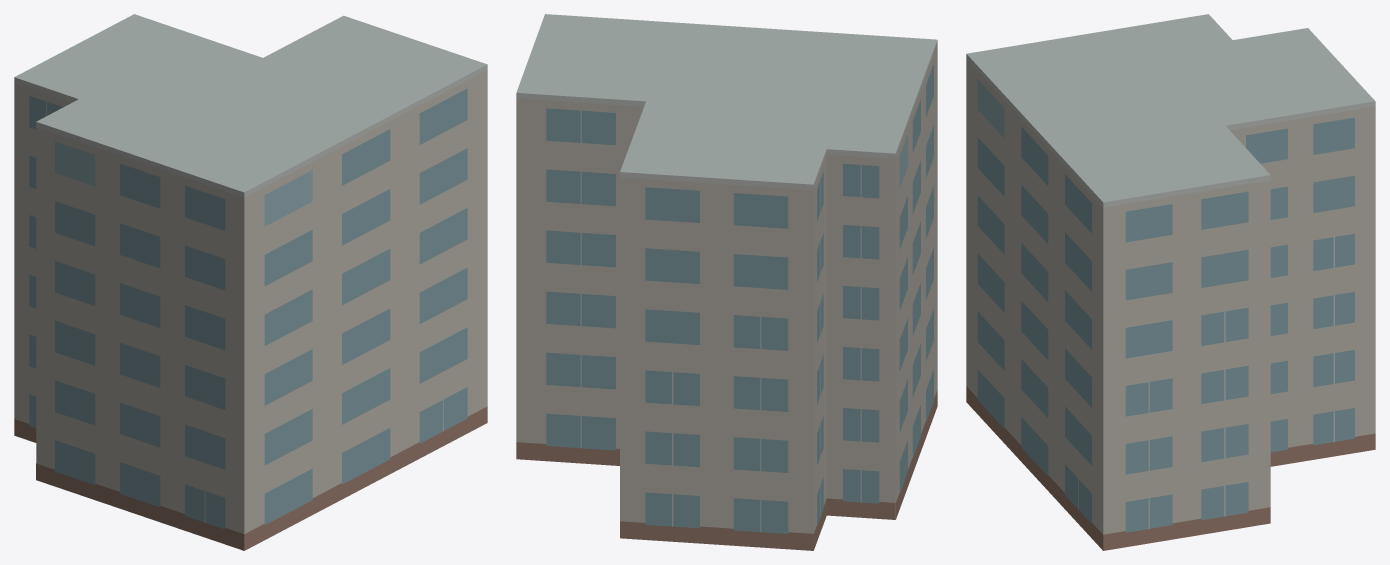
The model's file is survey-upis-32966475.glb.
The picture shows the model from 3 angles, left to right: view 1: azimuth 30°, elevation 25°; view 2: azimuth 150°, elevation 25°; view 3: azimuth 270°, elevation 25°; orthographic projection. The views are drawn at different scales.
Visible parts, largest first — view 1: survey-upis-32966475.tmp; view 2: survey-upis-32966475.tmp; view 3: survey-upis-32966475.tmp.
Boxes of the visible parts, x1,y1,x2,y2 form: survey-upis-32966475.tmp: [14, 14, 487, 550]; survey-upis-32966475.tmp: [516, 14, 937, 550]; survey-upis-32966475.tmp: [966, 14, 1375, 550].
Size of the model in its own units: 18.86 by 16.25 by 17.31.
